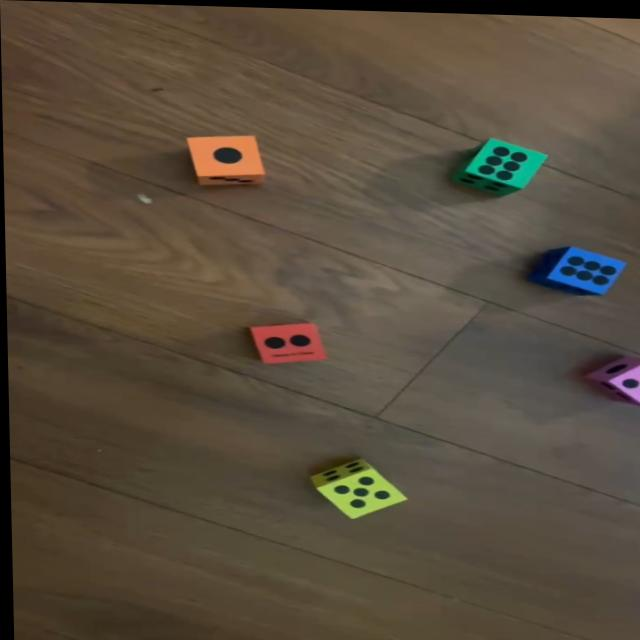blue_block: (531, 240, 630, 293)
red_block: (248, 317, 325, 365)
